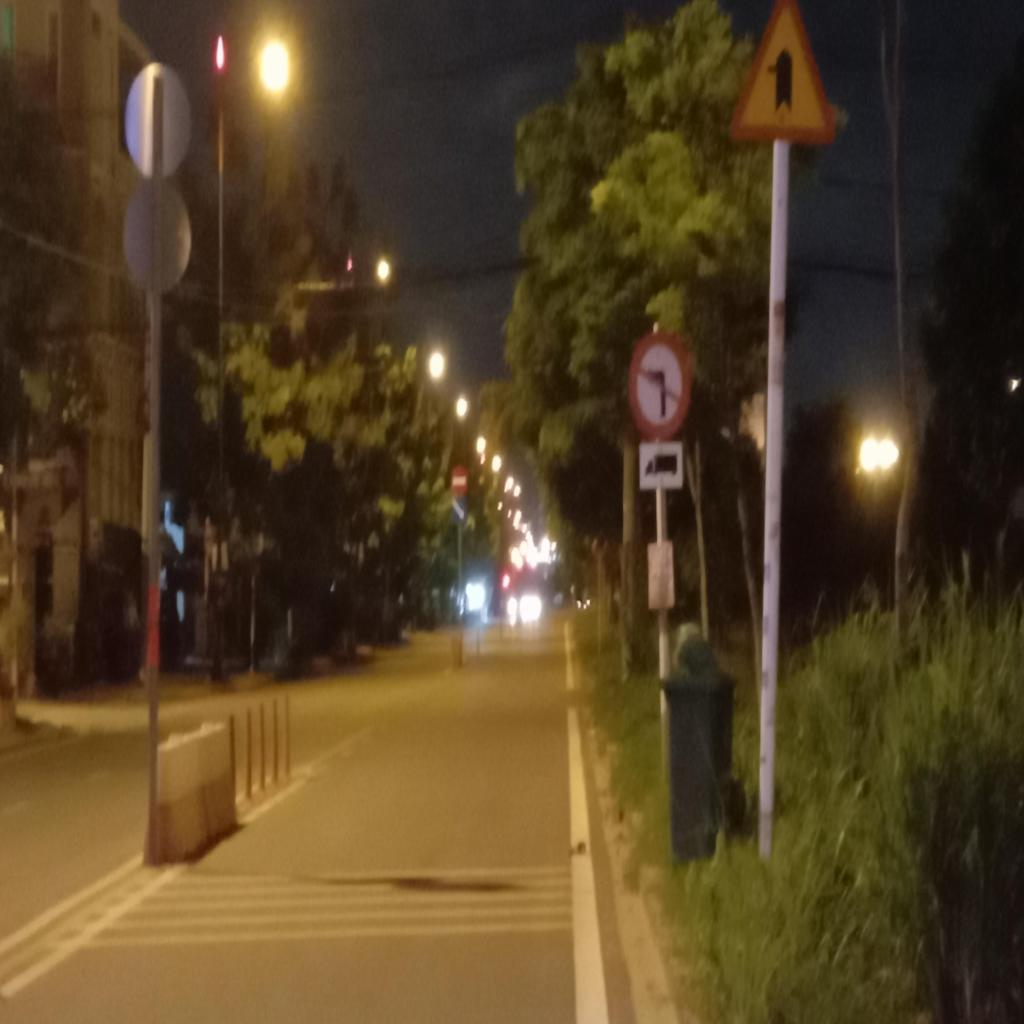cam_re_trai: (627, 332, 691, 442)
cam_xe_di_nguoc_chieu: (451, 464, 467, 495)
giao_nhau_voi_duong_khong_uu_tien: (725, 1, 836, 140)
huong_phai_di_vuot_chuong_ngai_vat_phai: (451, 494, 467, 525)
khac: (639, 444, 684, 490)
